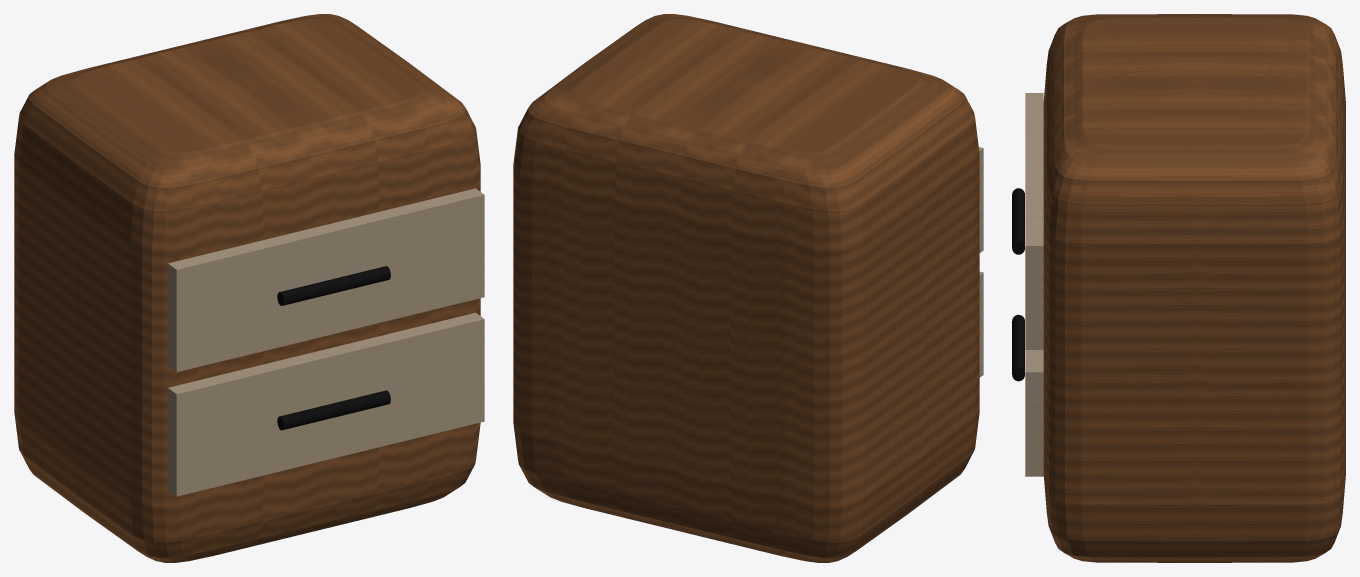
File: nightstand.glb
3 renders of one model, left to right at view 1: azimuth 30°, elevation 25°; view 2: azimuth 150°, elevation 25°; view 3: azimuth 270°, elevation 25°, orthographic.
Visible parts, largest first — view 1: body, drawer_2, drawer_1, handle_2, handle_1; view 2: body; view 3: body, drawer_2, drawer_1, handle_2, handle_1.
Part boxes in pixels (box(x1,y1,x2,y2)): body: box(14, 14, 480, 562); drawer_2: box(168, 188, 484, 372); drawer_1: box(168, 312, 484, 496); handle_2: box(277, 266, 390, 305); handle_1: box(277, 390, 390, 430); body: box(513, 14, 979, 562); body: box(1043, 14, 1345, 562); drawer_2: box(1025, 93, 1043, 349); drawer_1: box(1025, 350, 1043, 476); handle_2: box(1012, 188, 1024, 254); handle_1: box(1012, 314, 1024, 381).
Size of the model in its own units: 0.55 by 0.62 by 0.45.
Materials: 3 (3 with a texture image).
